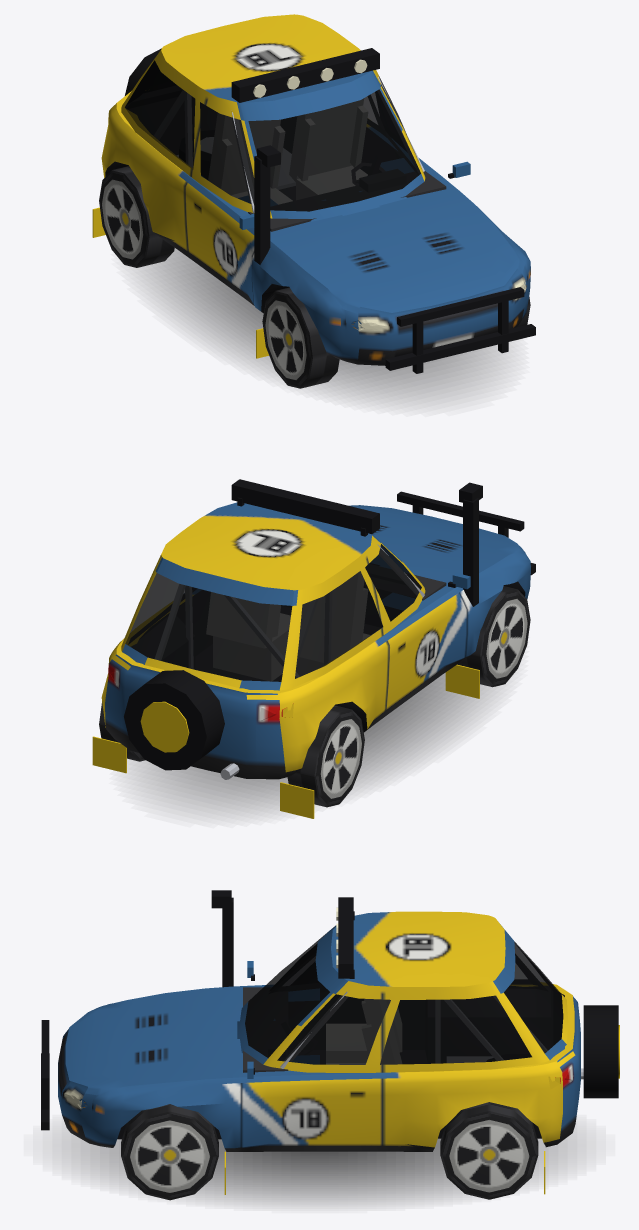
Rendered from baixio.glb.
The picture shows the model from 3 angles, top to bottom: view 1: azimuth 30°, elevation 25°; view 2: azimuth 150°, elevation 25°; view 3: azimuth 270°, elevation 25°; orthographic projection. The views are drawn at different scales.
Parts seen in each view (by area): view 1: Carroceria, Interior, Capo_malha, Sombra, Porta_D_malha, Roda_DD, Roda_TD, Tampa_malha, Porta_E_malha; view 2: Carroceria, Tampa_malha, Interior, Sombra, Porta_D_malha, Capo_malha, Roda_TD, Roda_DD; view 3: Carroceria, Interior, Porta_E_malha, Sombra, Capo_malha, Tampa_malha, Roda_TE, Roda_DE, Porta_D_malha.
Part boxes in pixels (x1,y1,x2,y2): Carroceria: [92, 14, 535, 373]; Interior: [125, 77, 446, 231]; Capo_malha: [277, 196, 524, 313]; Sombra: [140, 248, 505, 403]; Porta_D_malha: [185, 92, 254, 303]; Roda_DD: [262, 287, 339, 388]; Roda_TD: [99, 166, 174, 267]; Tampa_malha: [125, 48, 175, 104]; Porta_E_malha: [372, 70, 470, 178]; Carroceria: [92, 479, 535, 818]; Tampa_malha: [120, 558, 294, 770]; Interior: [129, 544, 446, 681]; Sombra: [133, 673, 498, 814]; Porta_D_malha: [365, 535, 470, 708]; Capo_malha: [349, 505, 524, 578]; Roda_TD: [287, 705, 364, 807]; Roda_DD: [457, 586, 530, 687]; Carroceria: [41, 890, 583, 1194]; Interior: [243, 953, 564, 1072]; Porta_E_malha: [241, 980, 382, 1147]; Sombra: [61, 1132, 577, 1204]; Capo_malha: [70, 989, 225, 1095]; Tampa_malha: [495, 924, 619, 1117]; Roda_TE: [440, 1102, 538, 1199]; Roda_DE: [121, 1104, 218, 1200]; Porta_D_malha: [247, 945, 318, 990].
Size of the model in its own units: 2.64 by 1.91 by 4.86.
Materials: 14 (5 with a texture image).
